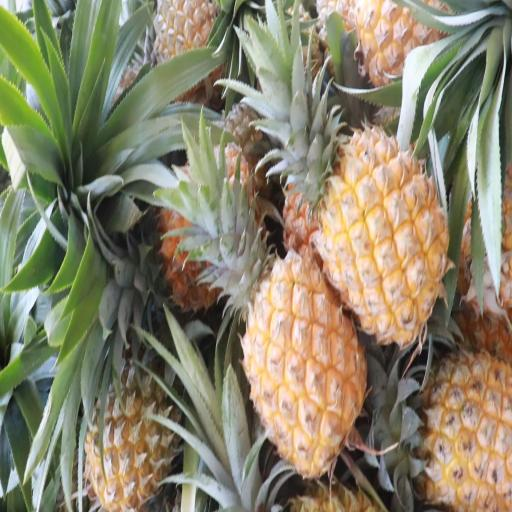Pineapple - v8 v1: (293, 117, 445, 332), (231, 249, 365, 469), (386, 349, 512, 511), (85, 322, 175, 512)
